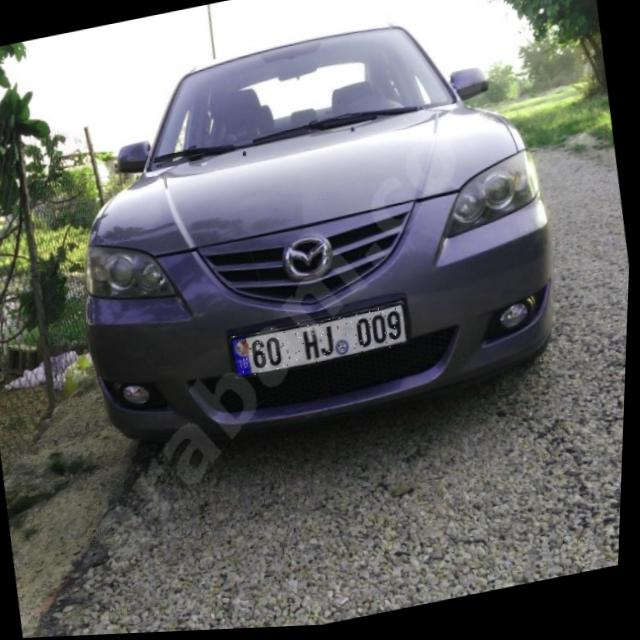license_plate: (231, 305, 413, 382)
